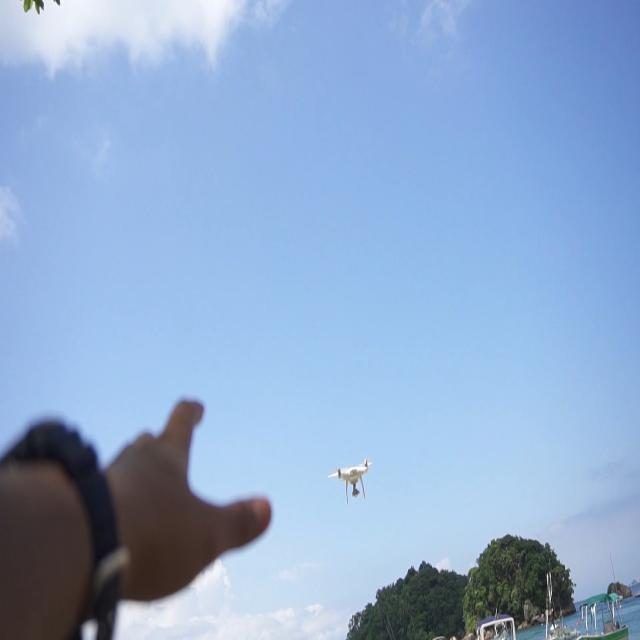Drone: (327, 455, 374, 507)
